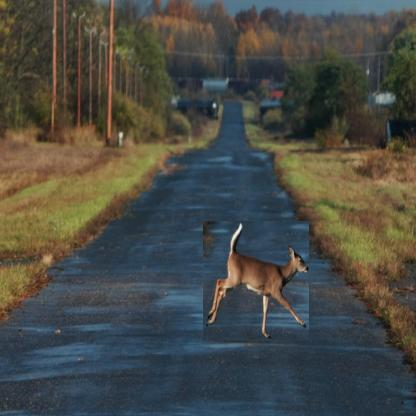Deer: (204, 221, 310, 340)
